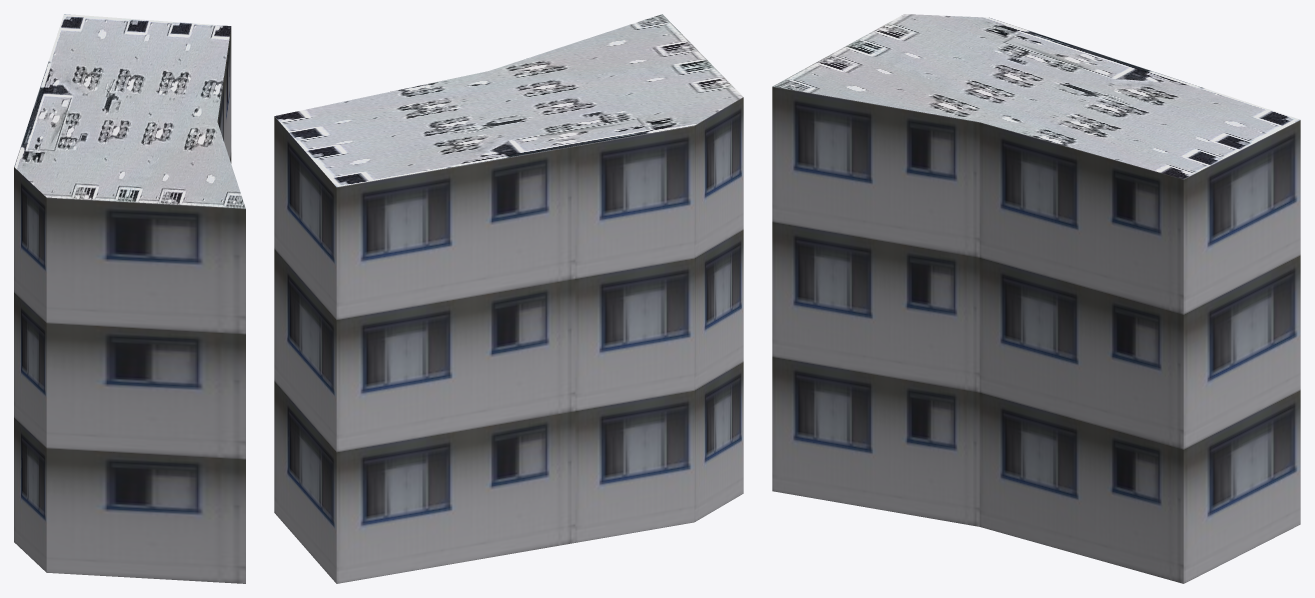
Rendered from ResTex__125.fbx.
3 renders of one model, left to right at view 1: azimuth 30°, elevation 25°; view 2: azimuth 150°, elevation 25°; view 3: azimuth 270°, elevation 25°, orthographic. The views are drawn at different scales.
Visible parts, largest first — view 1: CityEngineMaterial_9_m, CityEngineMaterial_4_m; view 2: CityEngineMaterial_9_m, CityEngineMaterial_4_m; view 3: CityEngineMaterial_9_m, CityEngineMaterial_4_m.
Part boxes in pixels (box(x1,y1,x2,y2)): CityEngineMaterial_9_m: box(14, 27, 245, 583); CityEngineMaterial_4_m: box(14, 14, 245, 208); CityEngineMaterial_9_m: box(274, 97, 743, 583); CityEngineMaterial_4_m: box(274, 14, 742, 186); CityEngineMaterial_9_m: box(772, 86, 1300, 583); CityEngineMaterial_4_m: box(772, 14, 1300, 179).
Bounding box in the file's own units: 7.89 × 9 × 10.65.
2 materials, 2 textured.
